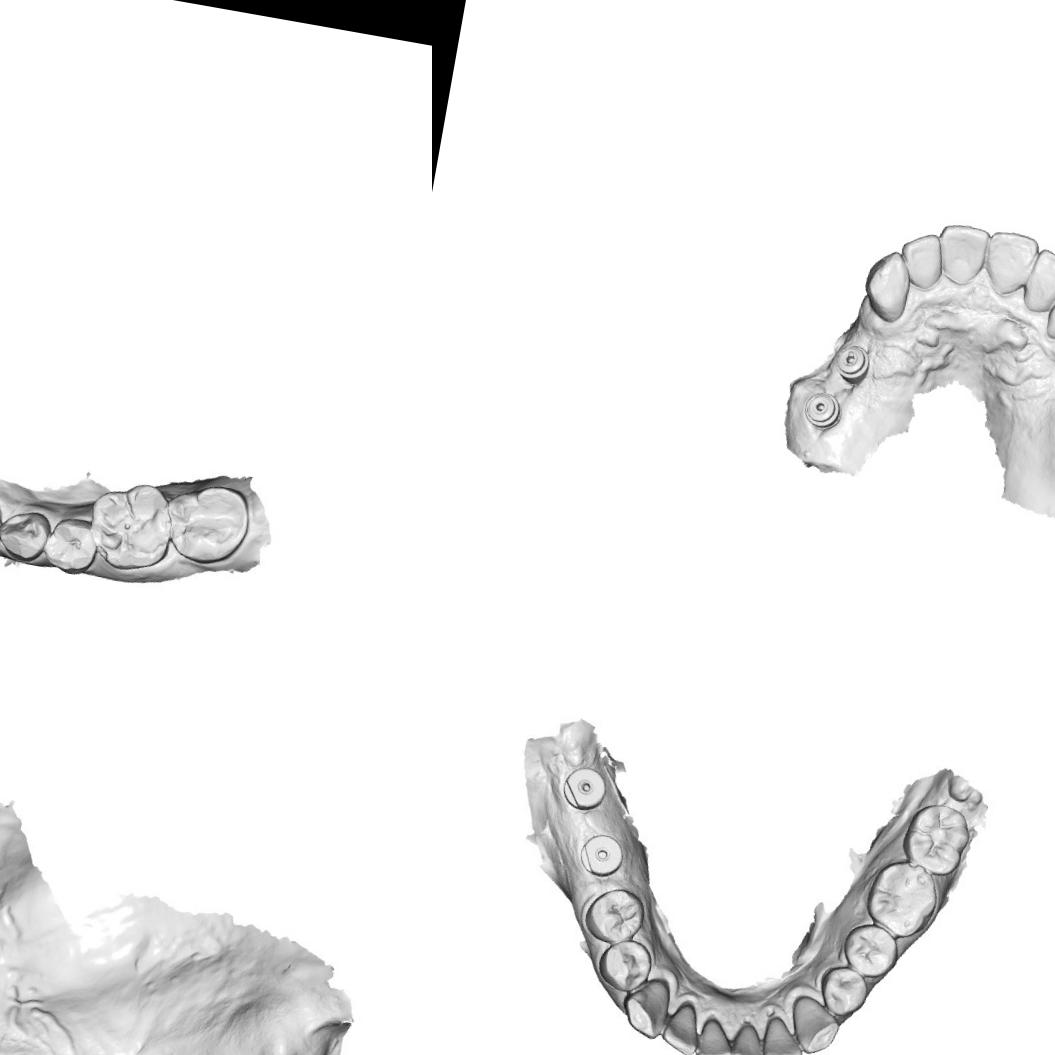canine: (858, 245, 915, 325), (784, 991, 841, 1055), (619, 979, 672, 1042), (1042, 272, 1055, 348)
implant: (572, 828, 630, 884), (556, 761, 610, 814), (799, 388, 844, 433)
implant_minus: (830, 342, 872, 388)
incisor: (980, 227, 1042, 299), (931, 218, 992, 289), (894, 228, 948, 292), (1019, 244, 1055, 317), (660, 996, 704, 1052), (760, 1012, 805, 1055), (725, 1014, 771, 1055), (693, 1015, 733, 1055)
molar: (88, 476, 180, 572), (162, 479, 249, 564), (860, 854, 943, 942), (896, 796, 975, 882)
premolar: (581, 879, 647, 948), (837, 917, 901, 980), (41, 516, 100, 576), (594, 938, 656, 992), (816, 962, 872, 1020), (0, 501, 49, 562)
